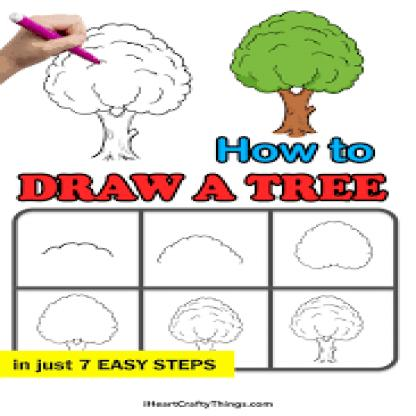branch_cut: (275, 83, 316, 101)
crown_cloud: (231, 7, 368, 95)
trunk_bark: (276, 102, 320, 123)
